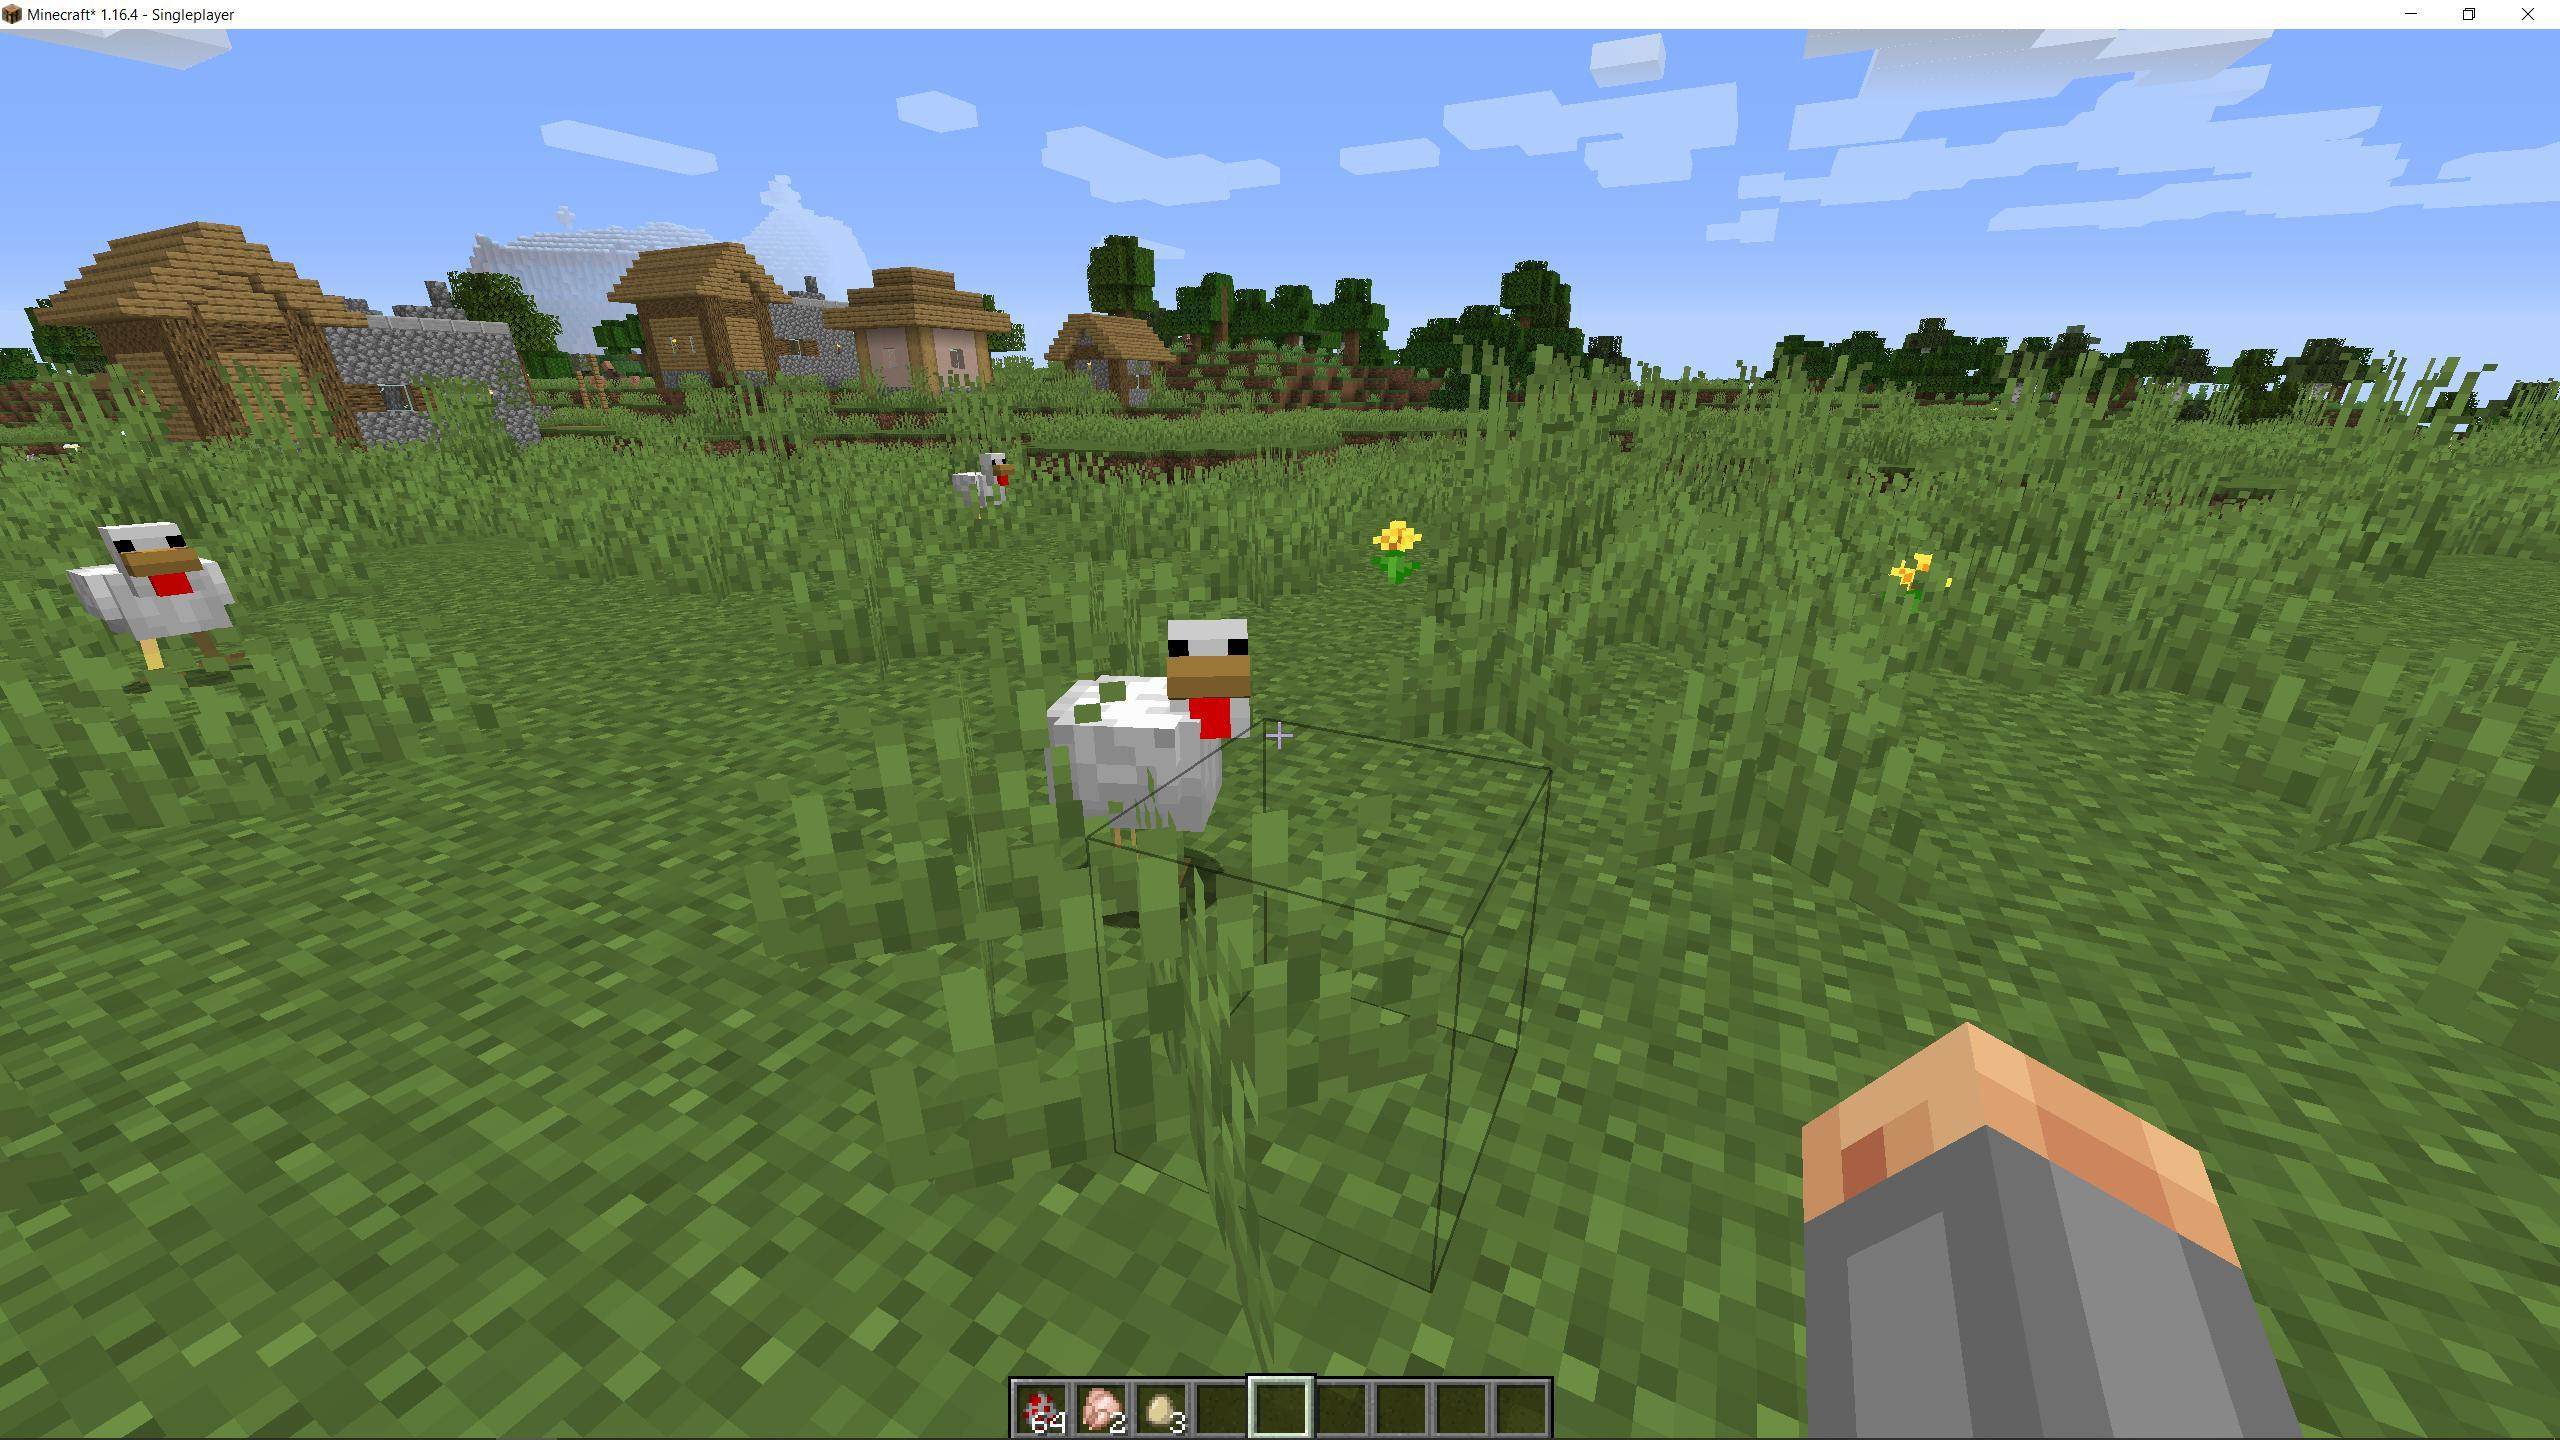chicken: (1023, 603, 1289, 874), (70, 503, 273, 709), (925, 445, 1037, 540)
